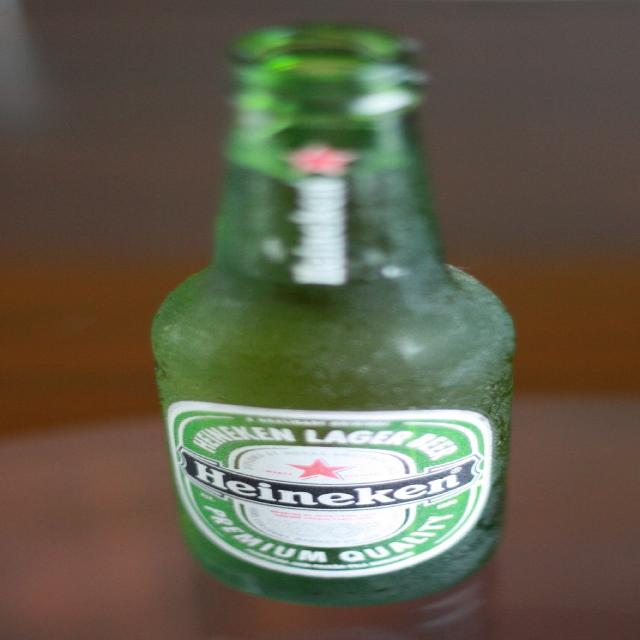heineken: (165, 401, 496, 579)
